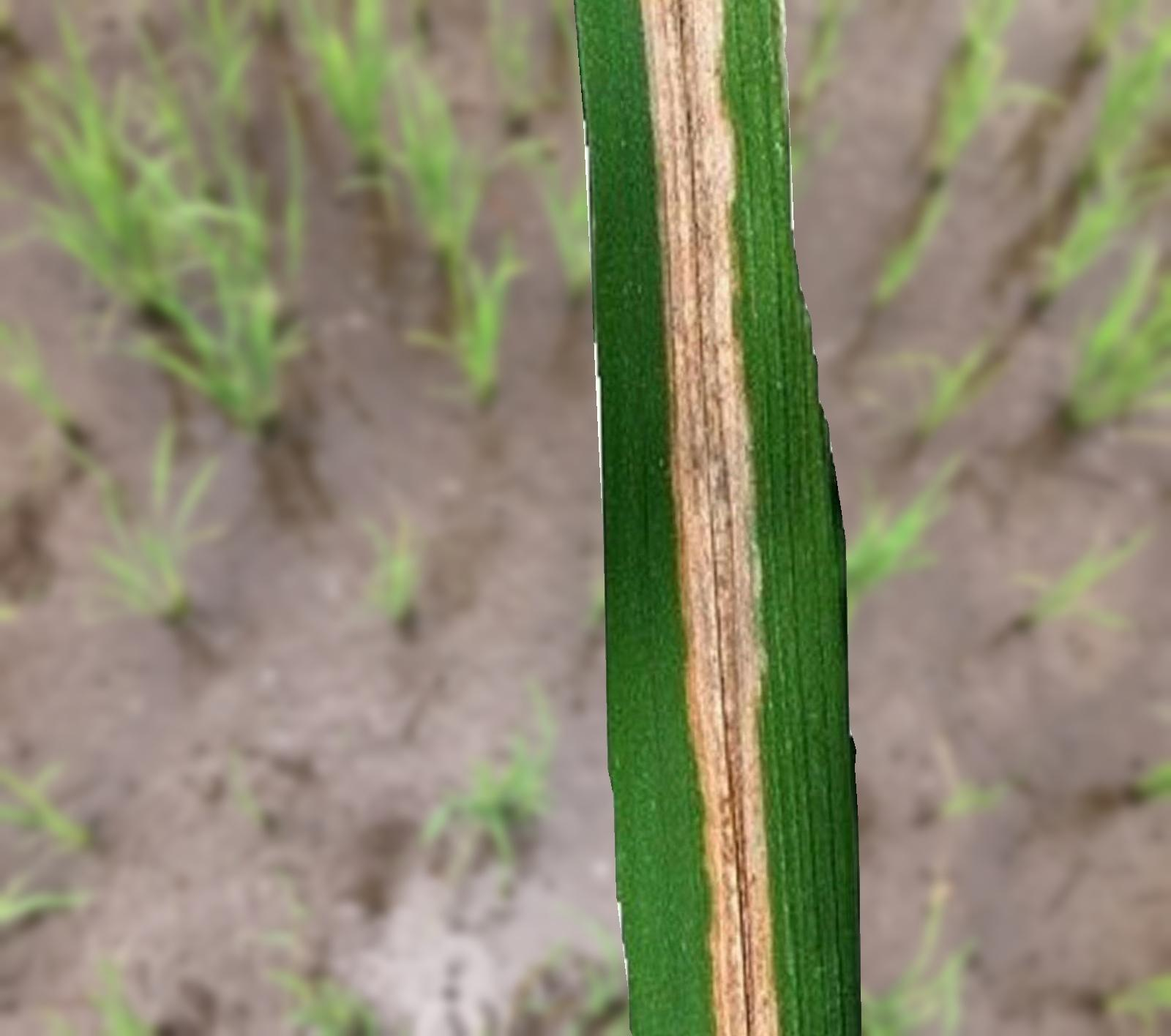BLB: (639, 0, 784, 1035)
LEAF: (574, 0, 861, 1035)
